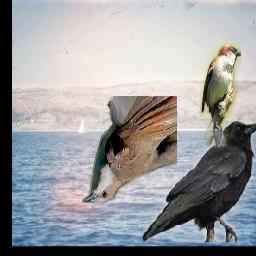Crow: (143, 120, 256, 242)
Cuckoo: (83, 96, 178, 203)
Sparrow: (201, 45, 242, 148)
